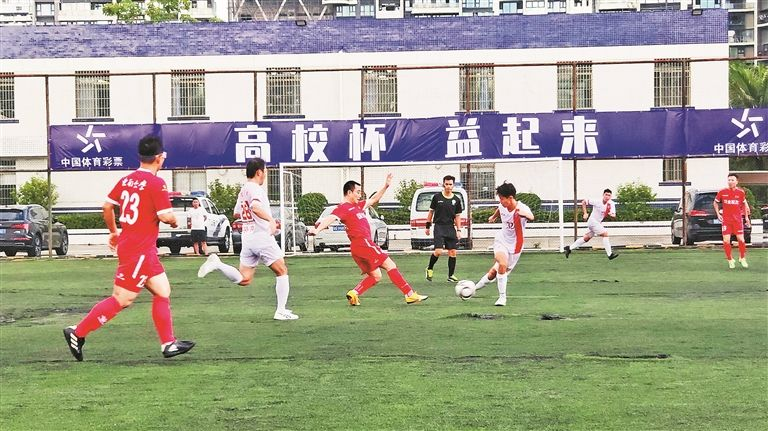football: (455, 279, 475, 300)
